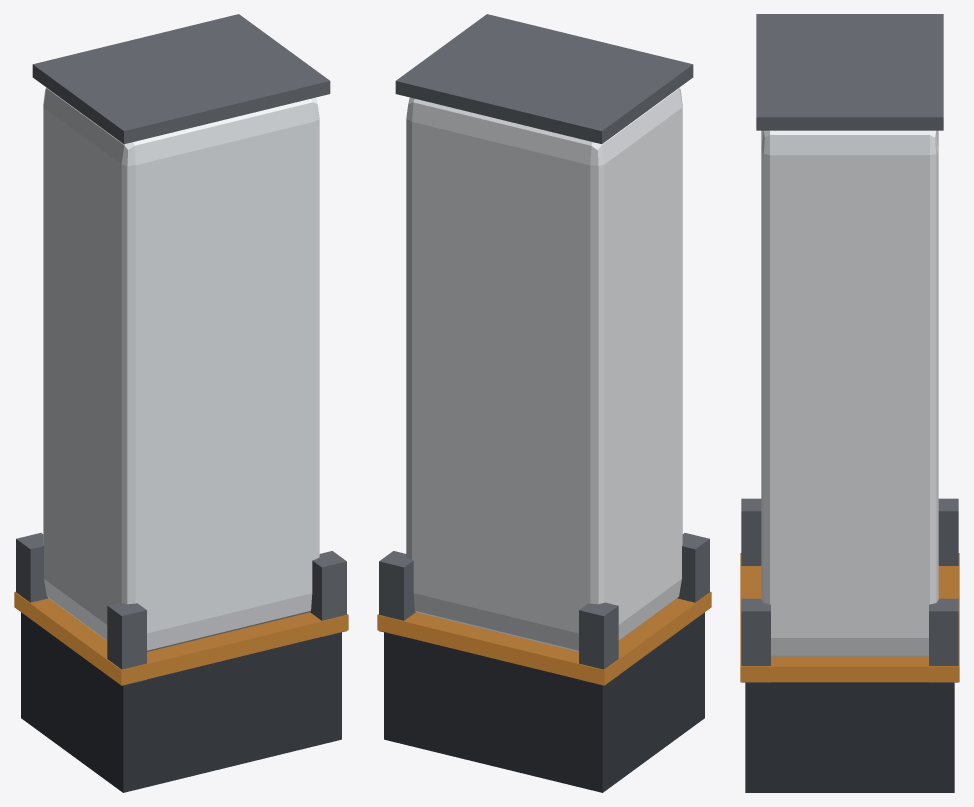
The model's file is 07_memory_vitrine_housing.glb.
3 renders of one model, left to right at view 1: azimuth 30°, elevation 25°; view 2: azimuth 150°, elevation 25°; view 3: azimuth 270°, elevation 25°, orthographic. The views are drawn at different scales.
Parts seen in each view (by area): view 1: Vitrine_CrystalPrism, Vitrine_Pedestal, Vitrine_TopCap, Vitrine_AmberCollar, Vitrine_Bracket, Vitrine_Bracket_002, Vitrine_Bracket_001; view 2: Vitrine_CrystalPrism, Vitrine_Pedestal, Vitrine_TopCap, Vitrine_AmberCollar, Vitrine_Bracket_001, Vitrine_Bracket_003, Vitrine_Bracket; view 3: Vitrine_CrystalPrism, Vitrine_Pedestal, Vitrine_TopCap, Vitrine_AmberCollar, Vitrine_Bracket_002, Vitrine_Bracket_003, Vitrine_Bracket, Vitrine_Bracket_001.
Part boxes in pixels (left/top/right/bottom): Vitrine_CrystalPrism: left=43, top=88, right=319, bottom=651; Vitrine_Pedestal: left=21, top=612, right=341, bottom=792; Vitrine_TopCap: left=32, top=14, right=330, bottom=144; Vitrine_AmberCollar: left=14, top=591, right=348, bottom=685; Vitrine_Bracket: left=107, top=602, right=146, bottom=685; Vitrine_Bracket_002: left=310, top=551, right=346, bottom=636; Vitrine_Bracket_001: left=16, top=533, right=48, bottom=602; Vitrine_CrystalPrism: left=406, top=88, right=682, bottom=651; Vitrine_Pedestal: left=384, top=612, right=704, bottom=792; Vitrine_TopCap: left=395, top=14, right=693, bottom=144; Vitrine_AmberCollar: left=377, top=591, right=711, bottom=685; Vitrine_Bracket_001: left=579, top=602, right=618, bottom=685; Vitrine_Bracket_003: left=379, top=551, right=415, bottom=636; Vitrine_Bracket: left=677, top=533, right=709, bottom=602; Vitrine_CrystalPrism: left=761, top=130, right=938, bottom=656; Vitrine_Pedestal: left=745, top=682, right=954, bottom=792; Vitrine_TopCap: left=756, top=14, right=943, bottom=130; Vitrine_AmberCollar: left=740, top=553, right=959, bottom=682; Vitrine_Bracket_002: left=741, top=598, right=770, bottom=682; Vitrine_Bracket_003: left=929, top=598, right=958, bottom=682; Vitrine_Bracket: left=741, top=498, right=761, bottom=565; Vitrine_Bracket_001: left=938, top=498, right=958, bottom=565.
Bounding box in the file's own units: 1.09 × 3.01 × 0.89.
